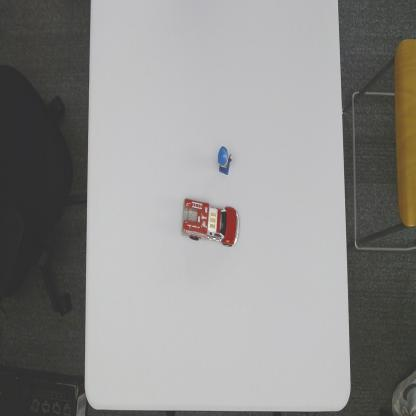Firetruck: (182, 199, 240, 249)
